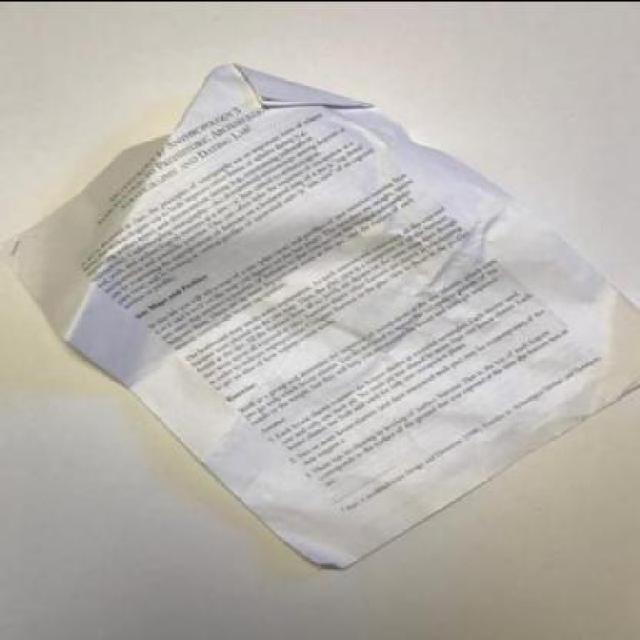PAPER: (12, 57, 638, 568)
